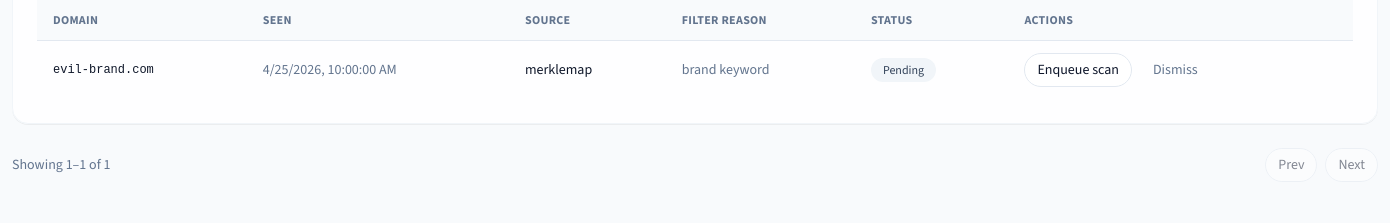
DiscoveriesExplorer › enqueue button surfaces 404 inline when API returns 'Discovery not found'
What coordinates should you click on to do the following:
click the button "Enqueue scan"
I would click on:
 (1078, 70)
Its box is [1024,53,1132,87].
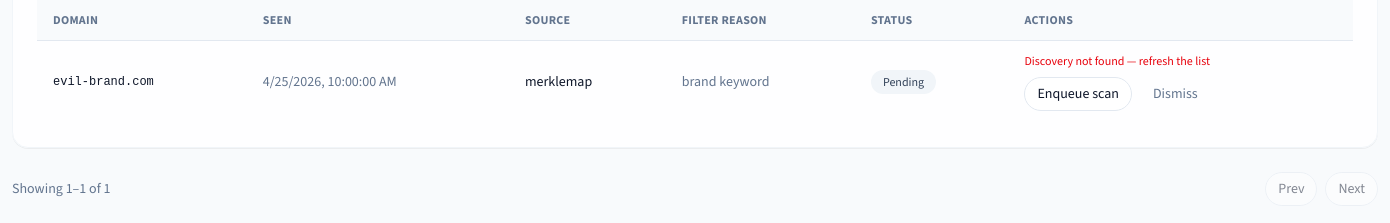
Check: the text "Discovery not found — refresh the list" is shown, box [1024,53,1210,69]
